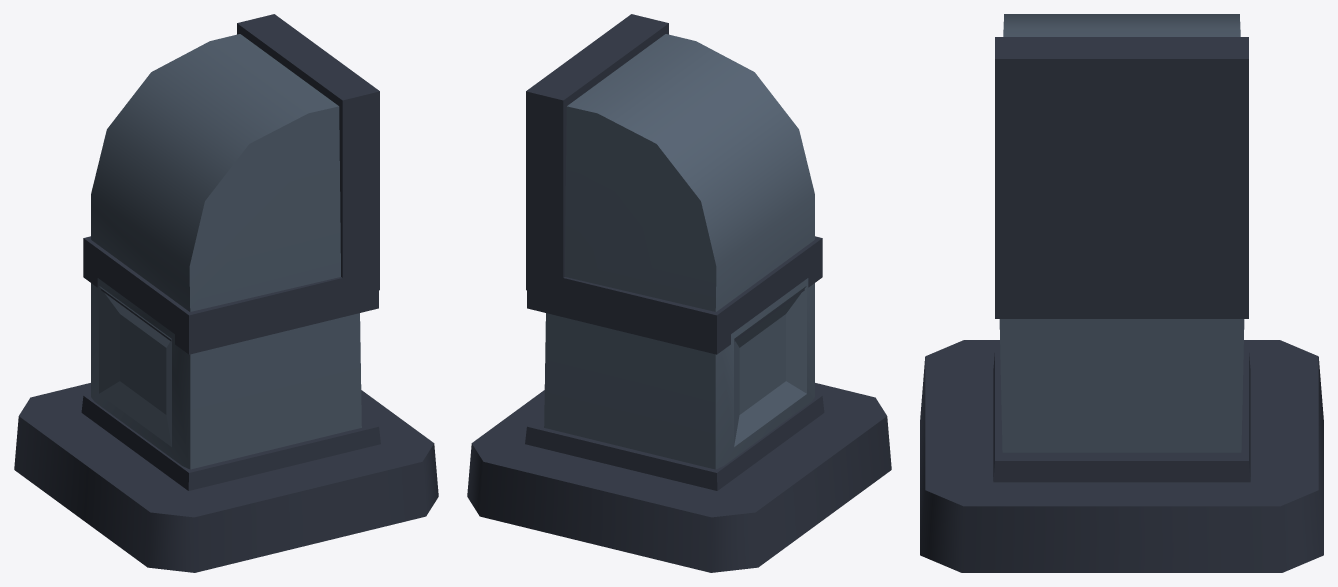
The model's file is Vent_2_A_3.fbx.
3 views of the same model, side by side, from view 1: azimuth 30°, elevation 25°; view 2: azimuth 150°, elevation 25°; view 3: azimuth 270°, elevation 25° (orthographic). The views are drawn at different scales.
Parts seen in each view (by area): view 1: Vent_2_A_3; view 2: Vent_2_A_3; view 3: Vent_2_A_3.
Boxes of the visible parts, x1=… form: Vent_2_A_3: x1=14, y1=14, x2=438, y2=572; Vent_2_A_3: x1=467, y1=14, x2=891, y2=572; Vent_2_A_3: x1=920, y1=14, x2=1323, y2=572.
Size of the model in its own units: 56.66 by 75.52 by 56.66.
